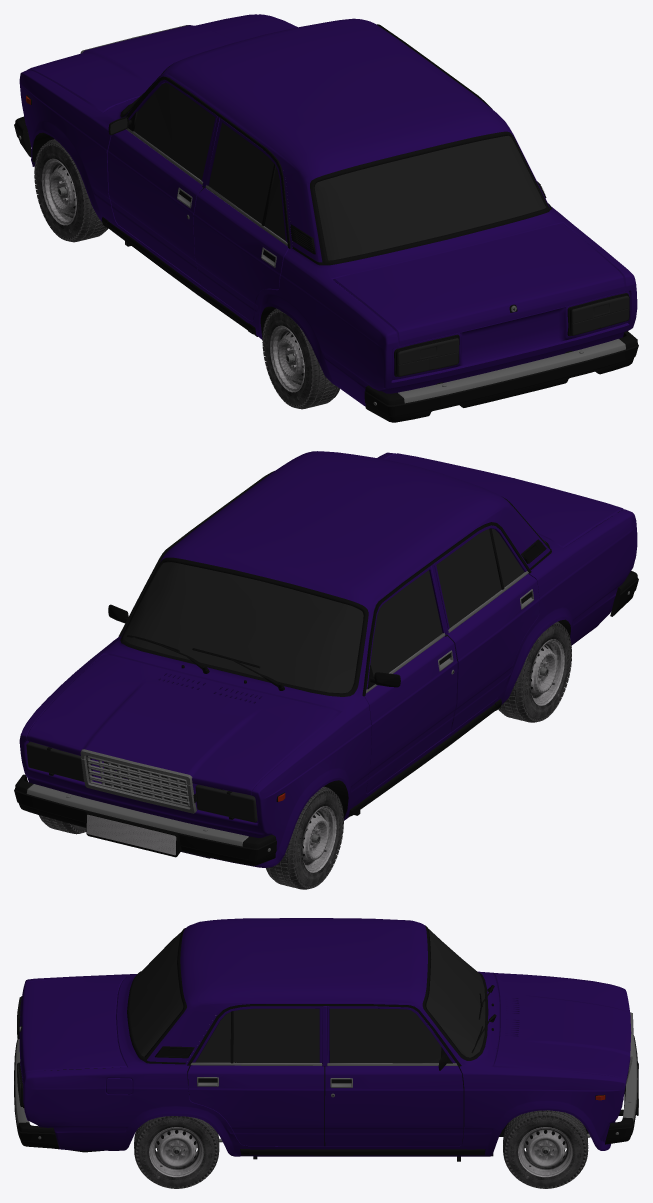
3 views of the same model, one above another, from view 1: azimuth 30°, elevation 25°; view 2: azimuth 150°, elevation 25°; view 3: azimuth 270°, elevation 25° (orthographic). The views are drawn at different scales.
Visible parts, largest first — view 1: base, WinZ, bag, DverP001, DverP002, kapot, ZBamp, Wheel L Z, Wheel L P; view 2: base, kapot, WinP, DverP001, DverP002, PBamp, bag, Wheel L P, Wheel L Z; view 3: base, DverP (×2), kapot, bag, Wheel P P, WinP, Wheel P Z, WinZ, PBamp, ZBamp.
Part boxes in pixels (left/top/right/bottom): base: left=19, top=14, right=637, bottom=406; WinZ: left=310, top=131, right=550, bottom=265; bag: left=333, top=223, right=625, bottom=346; DverP001: left=107, top=79, right=217, bottom=284; DverP002: left=193, top=118, right=288, bottom=320; kapot: left=27, top=14, right=292, bottom=112; ZBamp: left=364, top=331, right=638, bottom=422; Wheel L Z: left=262, top=308, right=339, bottom=409; Wheel L P: left=34, top=139, right=108, bottom=242; base: left=19, top=451, right=637, bottom=867; kapot: left=27, top=654, right=340, bottom=795; WinP: left=120, top=557, right=368, bottom=696; DverP001: left=364, top=566, right=457, bottom=793; DverP002: left=434, top=525, right=539, bottom=732; PBamp: left=14, top=774, right=276, bottom=865; bag: left=385, top=453, right=623, bottom=547; Wheel L P: left=266, top=786, right=343, bottom=889; Wheel L Z: left=498, top=621, right=571, bottom=722; base: left=17, top=918, right=631, bottom=1161; DverP (×2): left=188, top=1006, right=463, bottom=1146; kapot: left=493, top=973, right=633, bottom=1083; bag: left=19, top=976, right=126, bottom=1081; Wheel P P: left=503, top=1110, right=588, bottom=1188; WinP: left=422, top=925, right=488, bottom=1060; Wheel P Z: left=134, top=1116, right=219, bottom=1188; WinZ: left=127, top=928, right=186, bottom=1061; PBamp: left=605, top=1035, right=638, bottom=1144; ZBamp: left=14, top=1039, right=59, bottom=1148.
Size of the model in its own units: 1.99 by 1.54 by 4.56.
16 materials, 2 textured.
